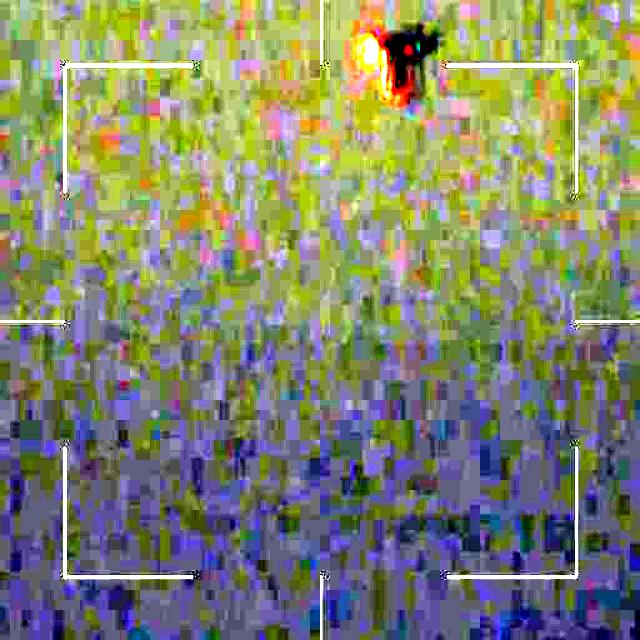bird: (356, 15, 444, 101)
